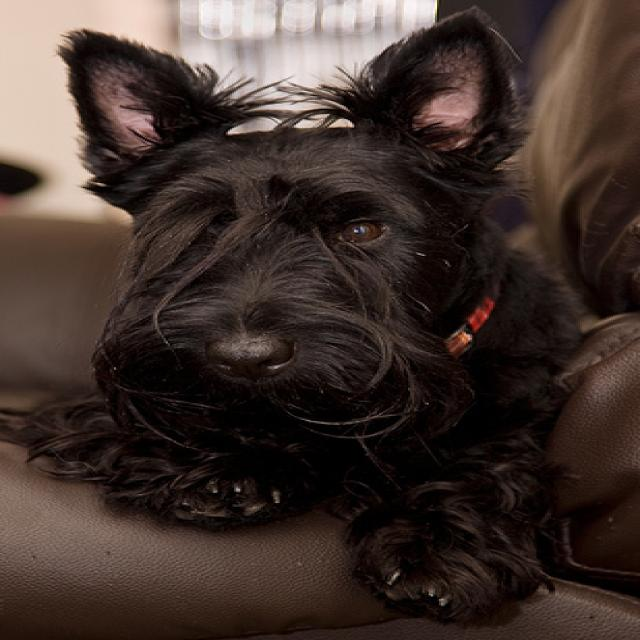dog: (64, 6, 522, 418)
